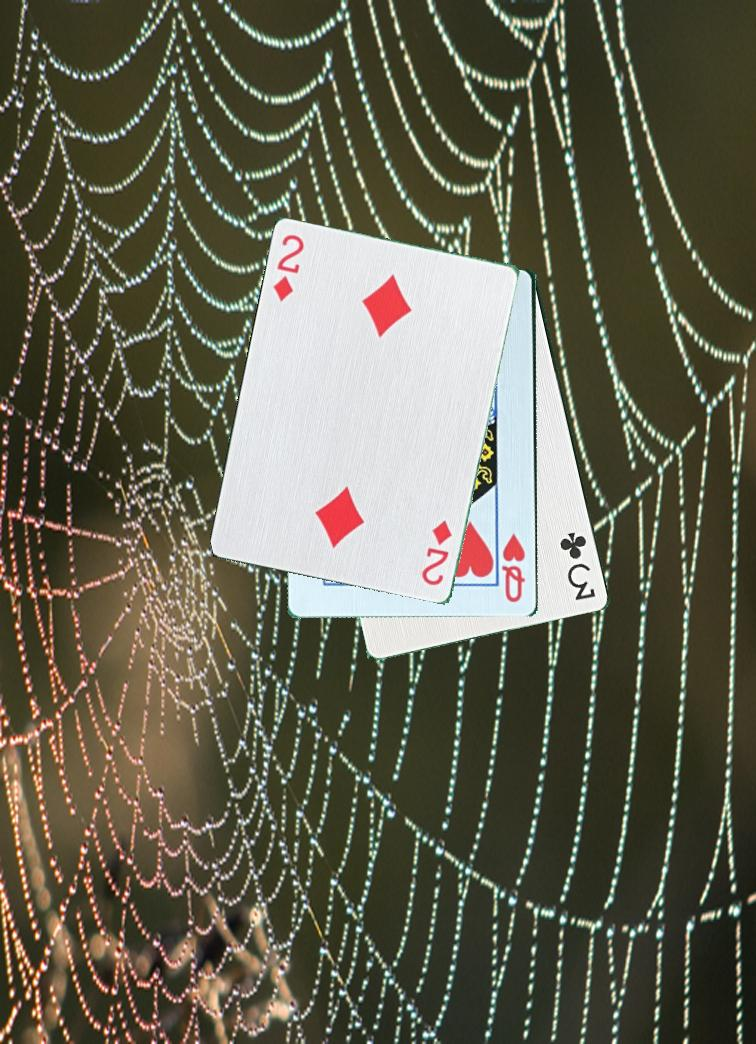2d: (415, 516, 456, 597), (270, 231, 308, 305)
3c: (556, 524, 600, 604)
qh: (500, 530, 529, 606)
